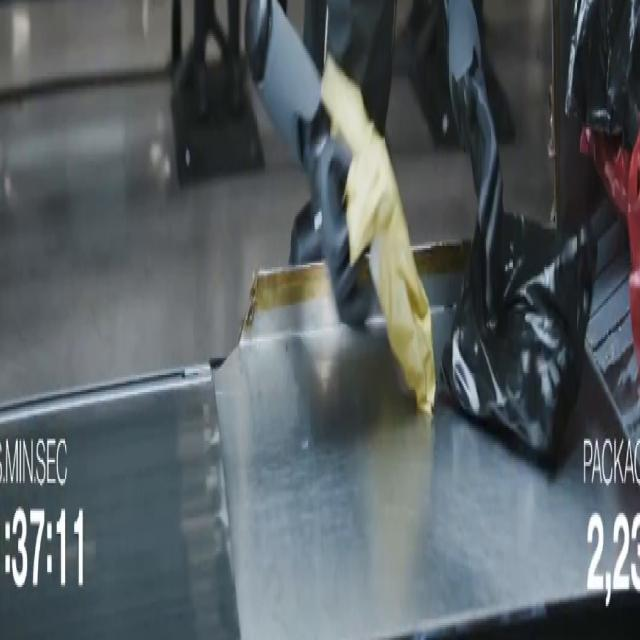package: (321, 58, 435, 413), (442, 208, 595, 464), (581, 128, 639, 362), (566, 0, 639, 150)
